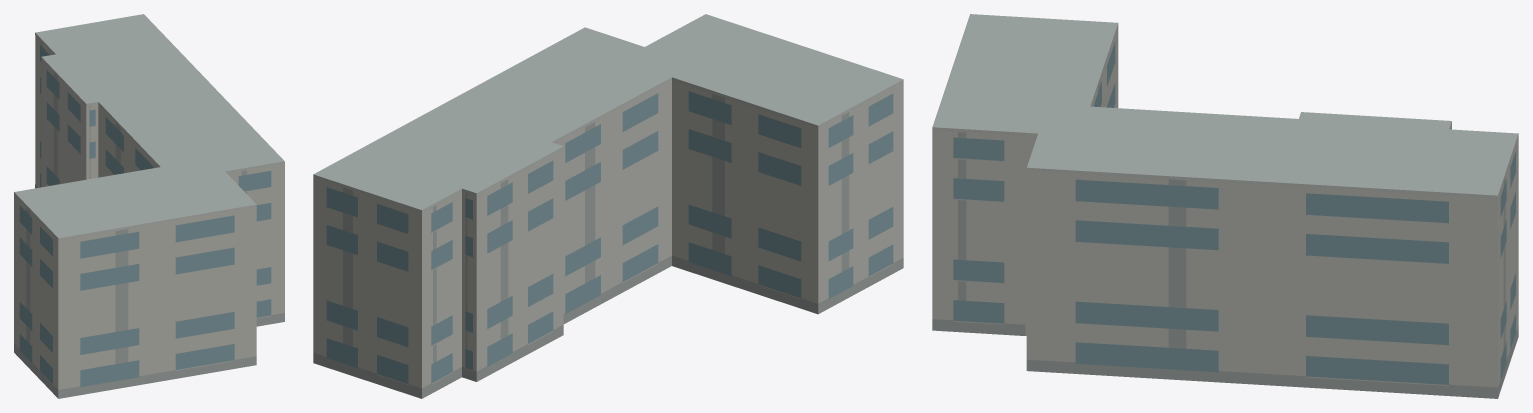
Rendered from residential-9db177d2-3a97-4419-bb25-54e6509a0a1e.glb.
3 views of the same model, side by side, from view 1: azimuth 30°, elevation 25°; view 2: azimuth 150°, elevation 25°; view 3: azimuth 270°, elevation 25° (orthographic). The views are drawn at different scales.
Parts seen in each view (by area): view 1: residential-9db177d2-3a97-4419-bb25-54e6509a0a1e.tmp; view 2: residential-9db177d2-3a97-4419-bb25-54e6509a0a1e.tmp; view 3: residential-9db177d2-3a97-4419-bb25-54e6509a0a1e.tmp.
Boxes of the visible parts, bbox=[...] form: residential-9db177d2-3a97-4419-bb25-54e6509a0a1e.tmp: bbox=[14, 14, 284, 398]; residential-9db177d2-3a97-4419-bb25-54e6509a0a1e.tmp: bbox=[313, 14, 903, 398]; residential-9db177d2-3a97-4419-bb25-54e6509a0a1e.tmp: bbox=[932, 14, 1518, 398].
Bounding box in the file's own units: 29.22 × 15.25 × 39.85.
